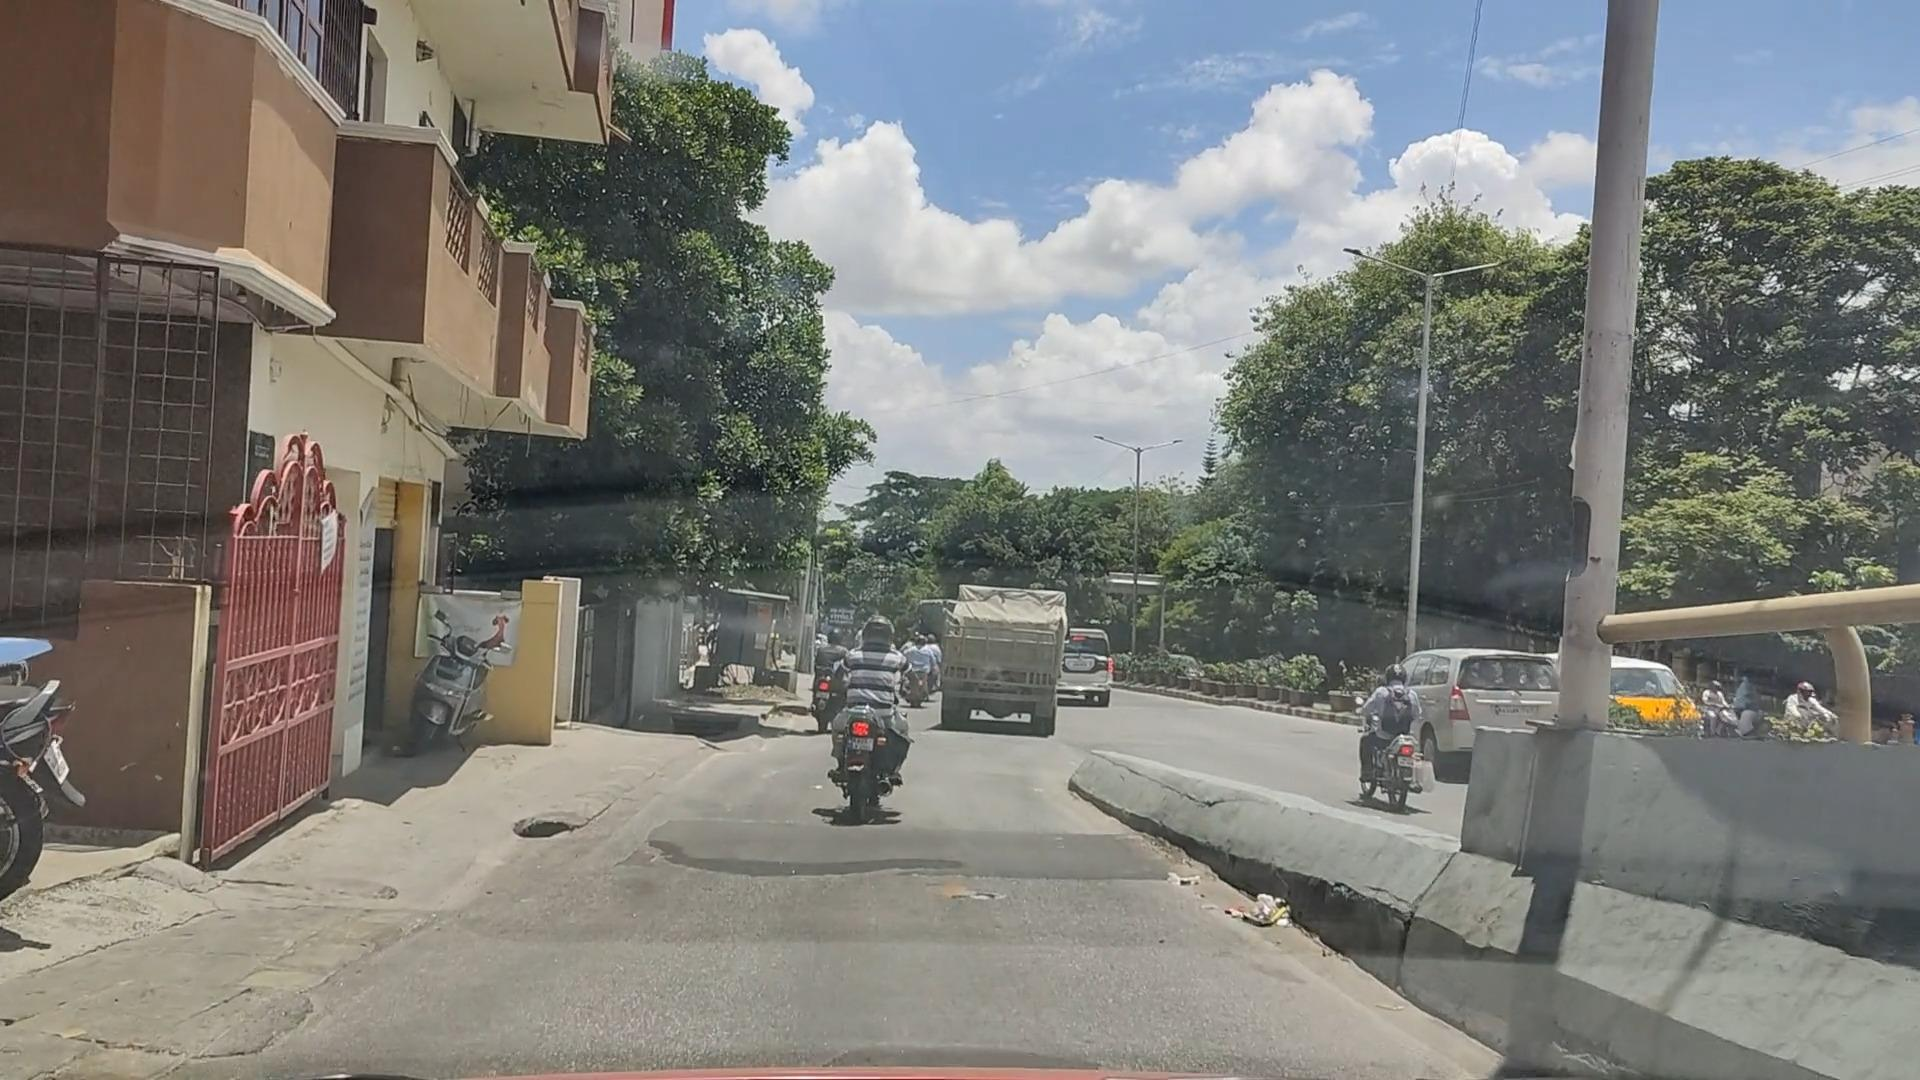HMV: (927, 576, 1069, 736)
LMV: (405, 607, 521, 781)
RoadDamages: (500, 786, 600, 864), (897, 861, 1017, 923)
